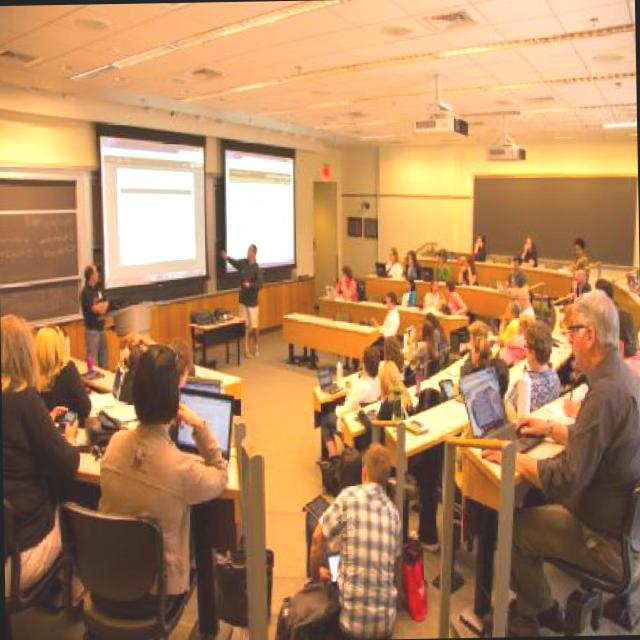Person: (476, 288, 640, 635), (84, 342, 230, 620), (1, 311, 82, 597), (406, 356, 517, 553), (307, 440, 403, 640), (560, 305, 640, 420), (318, 345, 382, 465), (34, 324, 93, 428), (504, 317, 561, 416), (220, 242, 264, 358), (345, 291, 400, 375), (81, 264, 110, 370), (168, 336, 194, 441), (452, 334, 492, 398), (401, 319, 438, 387), (458, 318, 494, 377), (498, 314, 534, 364), (116, 347, 146, 406), (419, 310, 448, 370), (438, 276, 468, 328), (118, 331, 156, 366), (498, 300, 522, 346), (569, 237, 591, 280), (382, 335, 404, 377), (504, 253, 526, 292), (515, 286, 536, 322), (570, 268, 592, 302), (334, 266, 356, 300), (422, 277, 444, 310), (457, 254, 479, 283), (434, 246, 450, 282), (403, 248, 421, 280), (384, 247, 402, 276), (521, 236, 537, 266), (400, 276, 416, 306), (470, 233, 486, 259)
